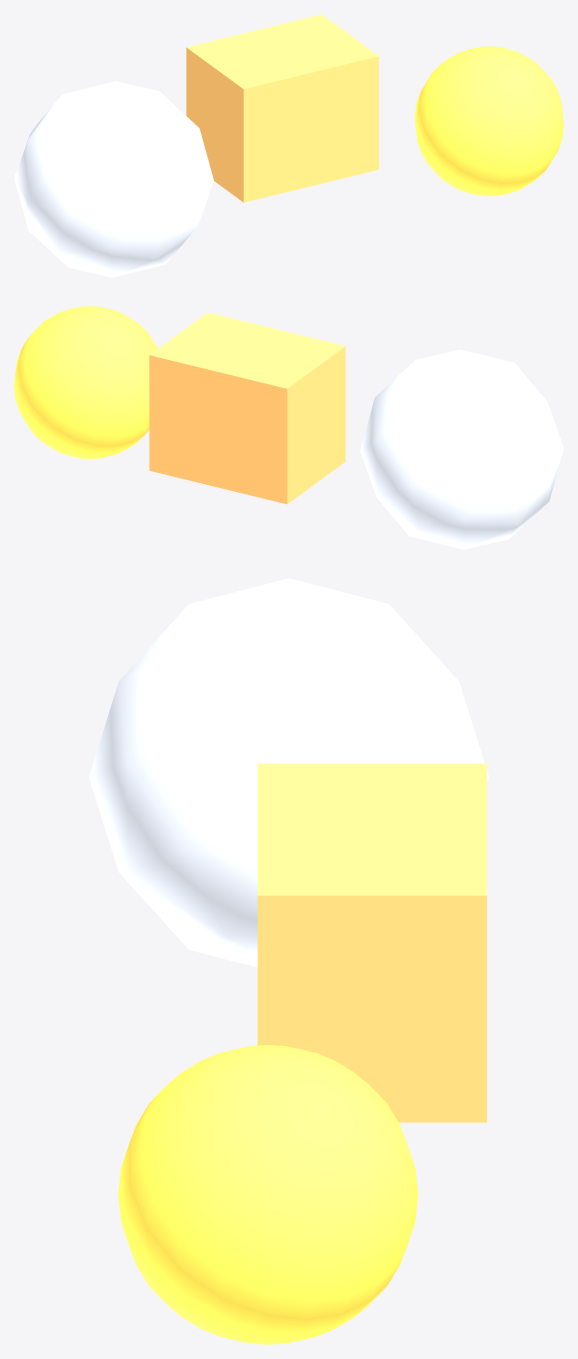
Rendered from friendly-farm.glb.
The picture shows the model from 3 angles, top to bottom: view 1: azimuth 30°, elevation 25°; view 2: azimuth 150°, elevation 25°; view 3: azimuth 270°, elevation 25°; orthographic projection. The views are drawn at different scales.
Visible parts, largest first — view 1: Friendly_Sheep, Friendly_Cow, Little_Duck; view 2: Friendly_Cow, Friendly_Sheep, Little_Duck; view 3: Friendly_Sheep, Friendly_Cow, Little_Duck.
Boxes of the visible parts, x1,y1,x2,y2 form: Friendly_Sheep: [14, 81, 213, 277]; Friendly_Cow: [186, 14, 378, 202]; Little_Duck: [414, 46, 563, 196]; Friendly_Cow: [149, 312, 345, 504]; Friendly_Sheep: [360, 349, 563, 549]; Little_Duck: [14, 306, 157, 458]; Friendly_Sheep: [89, 578, 488, 967]; Friendly_Cow: [257, 763, 486, 1122]; Little_Duck: [118, 1045, 418, 1344].
Size of the model in its own units: 2.89 by 0.99 by 0.96.
